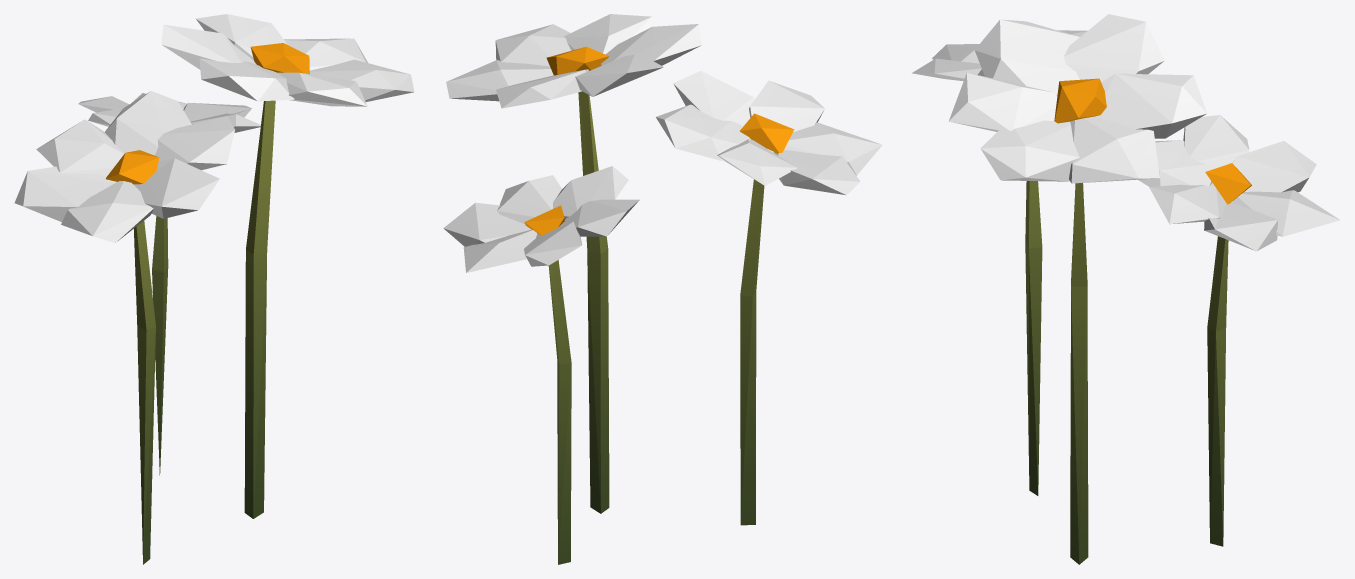
The model's file is Summer_Flower_07.glb.
3 renders of one model, left to right at view 1: azimuth 30°, elevation 25°; view 2: azimuth 150°, elevation 25°; view 3: azimuth 270°, elevation 25°, orthographic. The views are drawn at different scales.
Visible parts, largest first — view 1: Summer_Flower_07_LOD0; view 2: Summer_Flower_07_LOD0; view 3: Summer_Flower_07_LOD0.
Part boxes in pixels (x1,y1,x2,y2): Summer_Flower_07_LOD0: (14, 14, 414, 564); Summer_Flower_07_LOD0: (443, 14, 882, 564); Summer_Flower_07_LOD0: (912, 14, 1339, 564).
Size of what is drawn, in the model's own units: 0.2384 by 0.2893 by 0.2215.
1 material, 1 textured.
